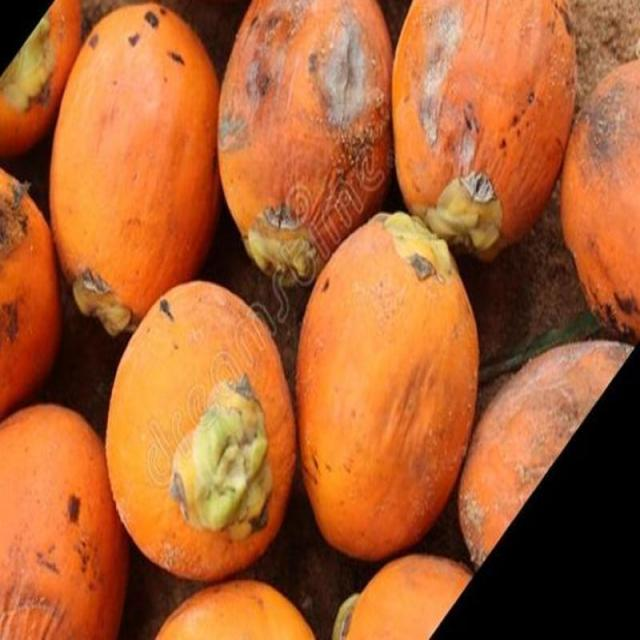good: (293, 209, 480, 564), (103, 280, 300, 588), (47, 2, 223, 336), (216, 0, 394, 297), (391, 0, 578, 265), (451, 341, 636, 572), (0, 403, 134, 639), (562, 59, 639, 346)
